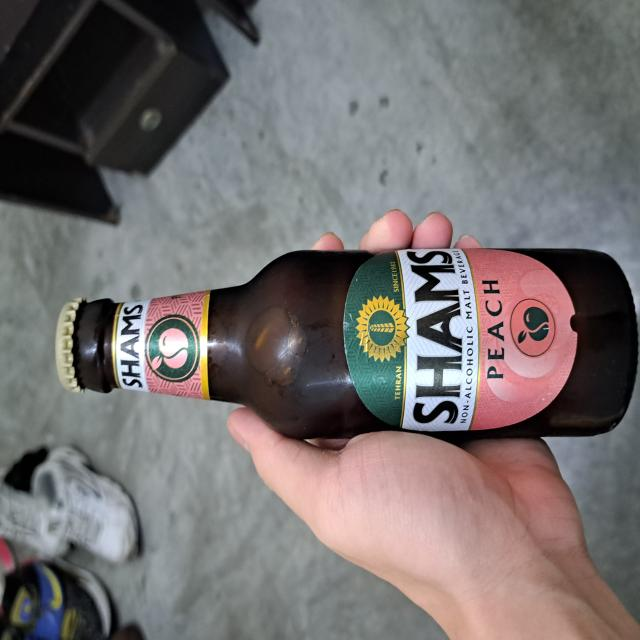glass bottle: (55, 250, 638, 439)
